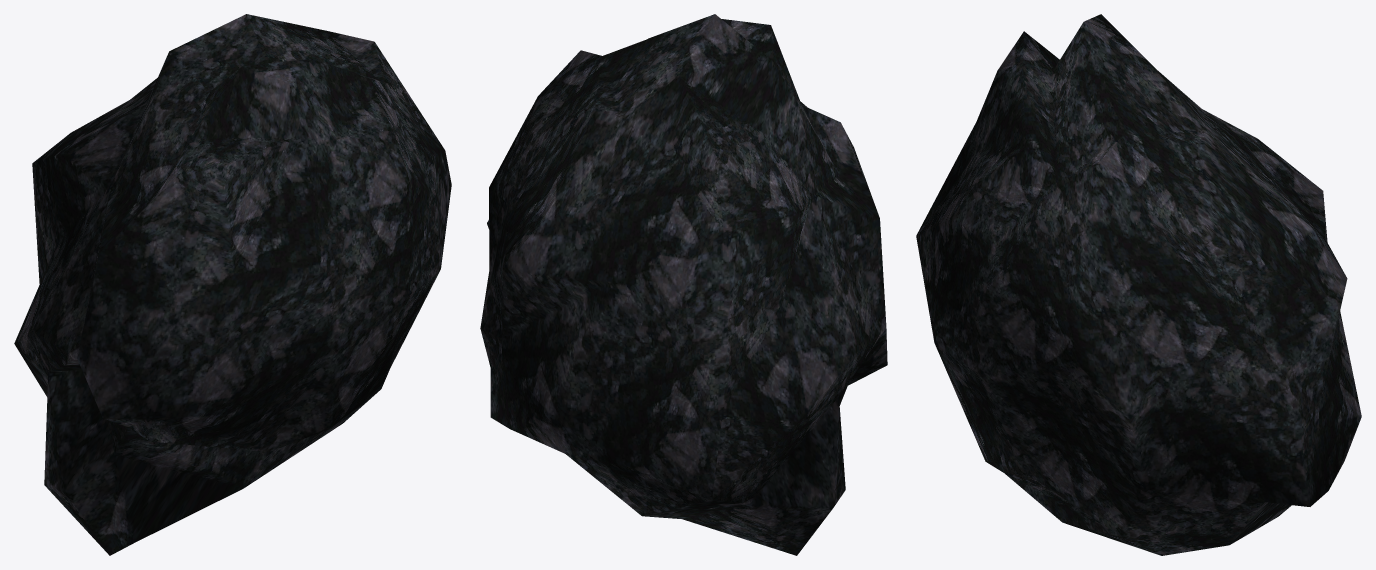
Rendered from asteroid_obsidian_large_s02_l2.fbx.
The picture shows the model from 3 angles, left to right: view 1: azimuth 30°, elevation 25°; view 2: azimuth 150°, elevation 25°; view 3: azimuth 270°, elevation 25°; orthographic projection. The views are drawn at different scales.
Parts seen in each view (by area): view 1: mesh_node; view 2: mesh_node; view 3: mesh_node.
Boxes of the visible parts, left/top/right/bottom form: mesh_node: left=14, top=14, right=451, bottom=555; mesh_node: left=480, top=14, right=887, bottom=555; mesh_node: left=916, top=14, right=1361, bottom=555.
Size of the model in its own units: 114 by 144 by 102.
Materials: 1 (1 with a texture image).
